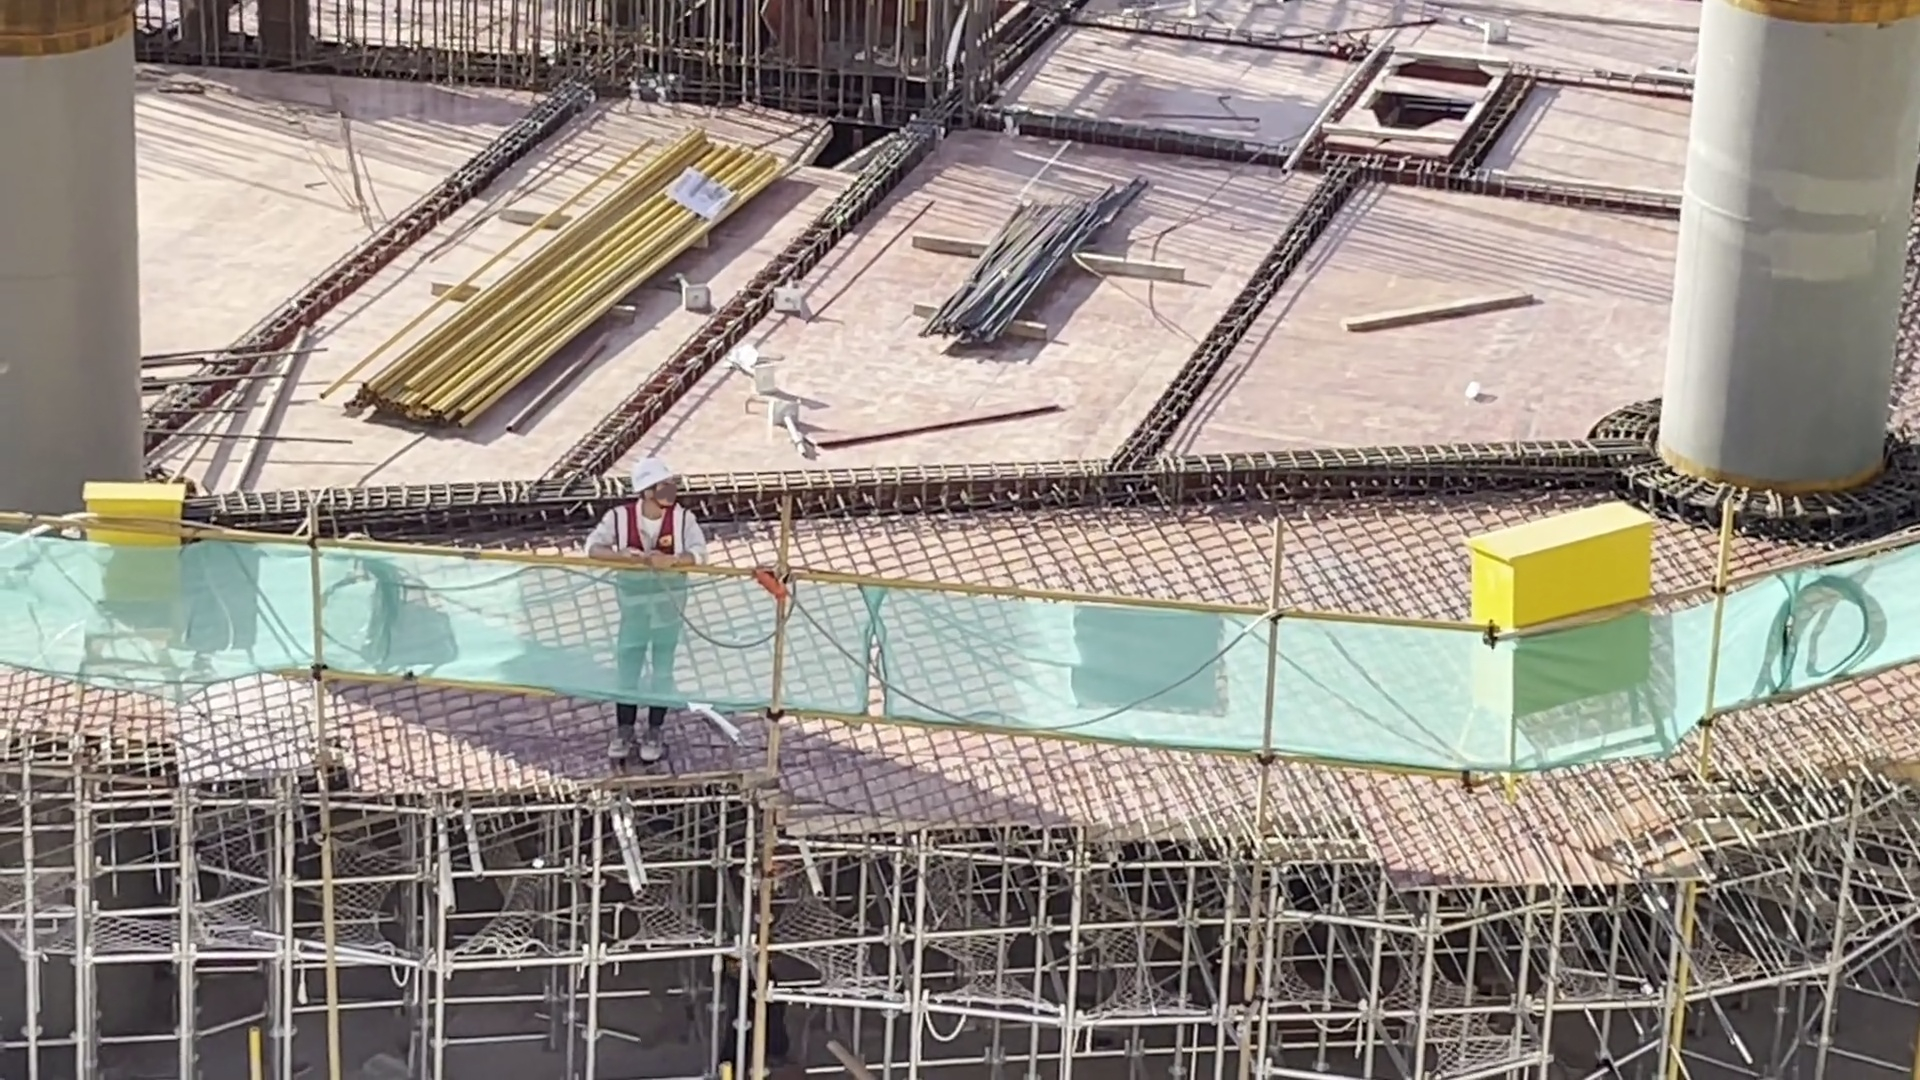ebox: (1491, 522, 1681, 722), (99, 494, 191, 634)
helmet: (626, 452, 671, 499), (729, 841, 783, 874)
person: (726, 831, 824, 1065), (623, 451, 693, 740)
rebar: (963, 199, 1111, 342)
vest: (713, 869, 781, 1002), (628, 506, 671, 649)
